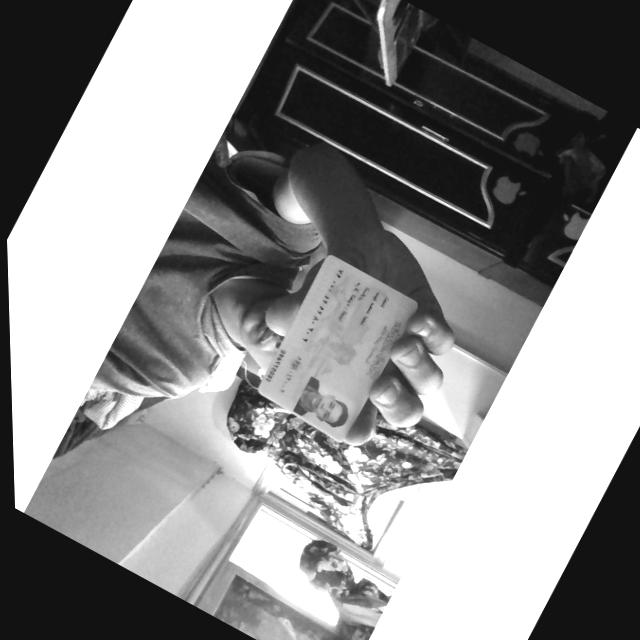id_card: (257, 256, 415, 440)
